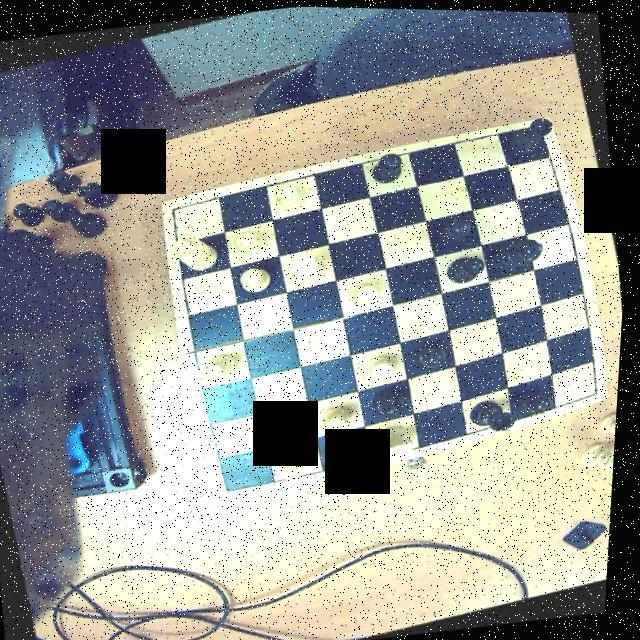chess-table-corners: (220, 472, 250, 500), (522, 114, 554, 137), (162, 198, 190, 224), (586, 375, 614, 399)
